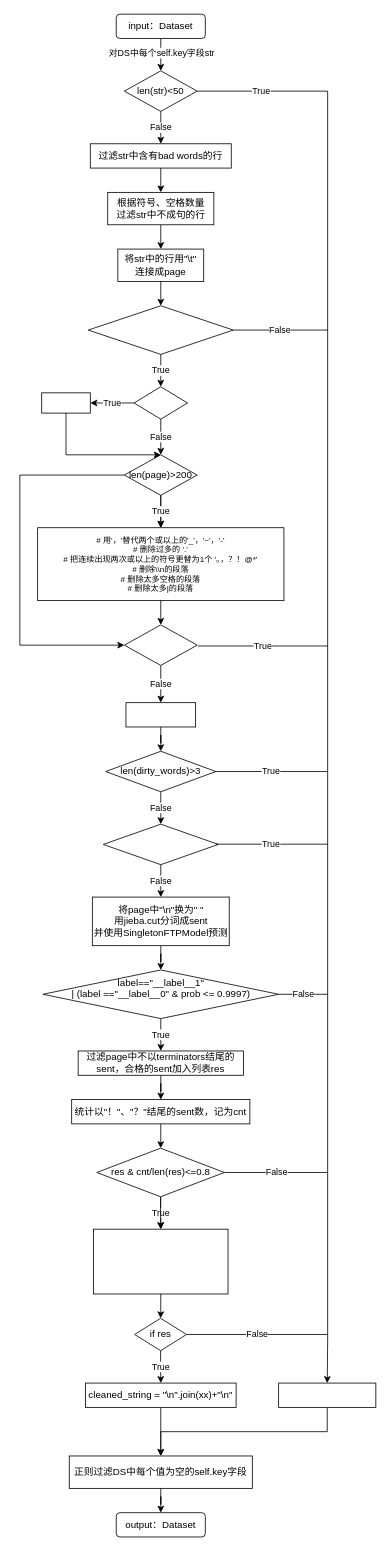
Some shapes in this 390 by 1551 pixel diagram are drawn without their labels. Here are the shapes that lost their labels. From the top down, the centre of each, then its label:
[160,329]: page非空 且没有”记住本站网站“
[65,402]: page=""
[160,402]: 有日文
[160,644]: if not page
[160,714]: 敏感词汇统计
[160,844]: len(res)>=1 & len(page)<200
[160,1261]: # 全角转半角 # 正则过滤URL # 正则去除剩余括号 # 正则去除非常规字符 # 过滤包含en_pattern的sent
[327,1394]: cleaned_string = ""
